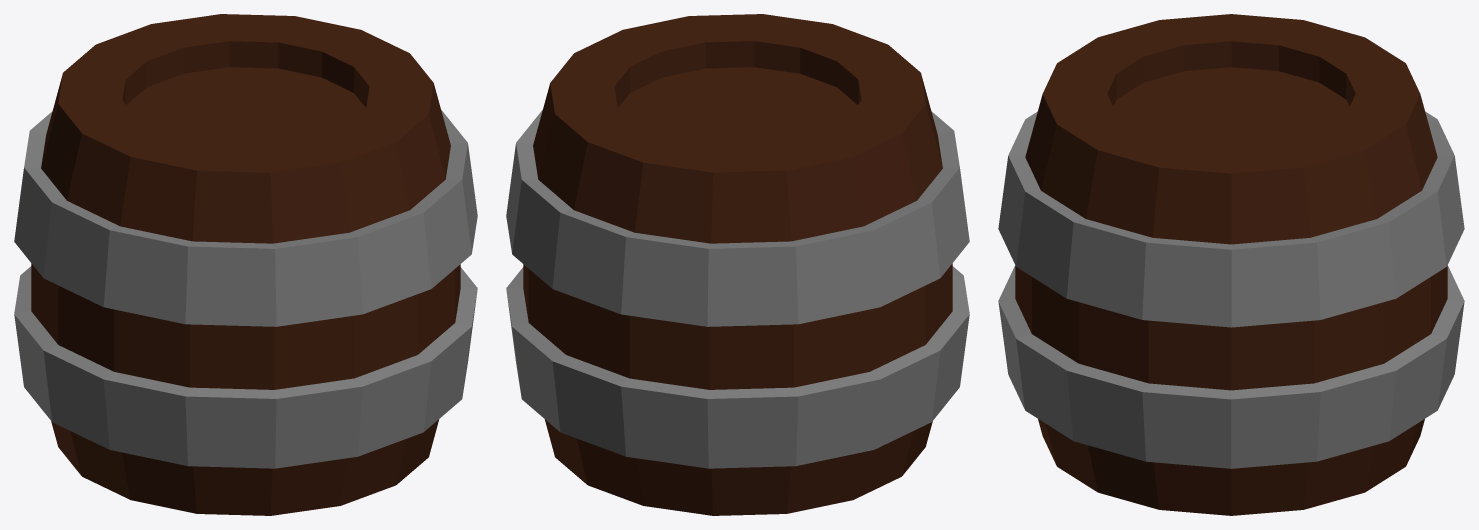
Rendered from Barrel.fbx.
3 renders of one model, left to right at view 1: azimuth 30°, elevation 25°; view 2: azimuth 150°, elevation 25°; view 3: azimuth 270°, elevation 25°, orthographic.
Visible parts, largest first — view 1: Barrel; view 2: Barrel; view 3: Barrel.
Part boxes in pixels (left/top/right/bottom): Barrel: left=14, top=14, right=477, bottom=515; Barrel: left=506, top=14, right=969, bottom=515; Barrel: left=998, top=14, right=1464, bottom=515.
Size of the model in its own units: 296 by 239 by 296.
